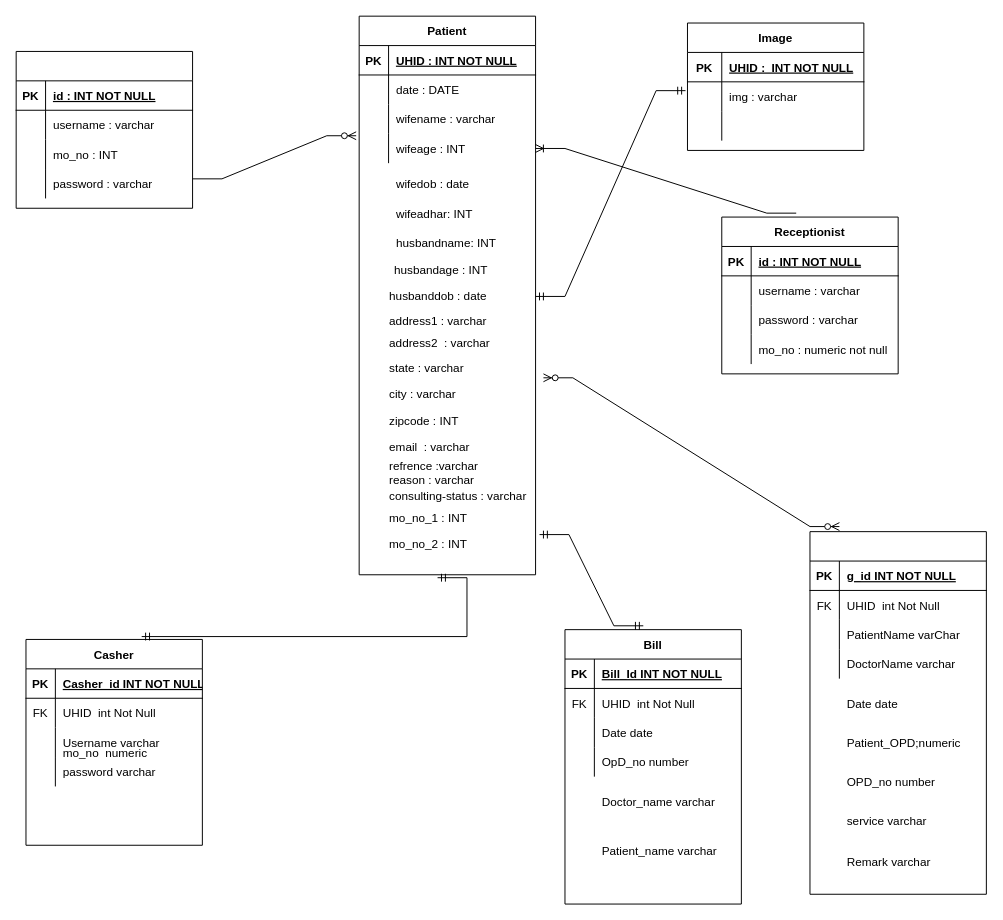
The diagram is 1003 pixels wide and 920 high, and some of its shapes have lost their labels. The shapes that lost their labels are listed below. From the top down, each one's box as (x1, y1, x2, y2) in pixels, then its label:
(15, 50, 193, 208): Doctor
(809, 531, 986, 894): Request
